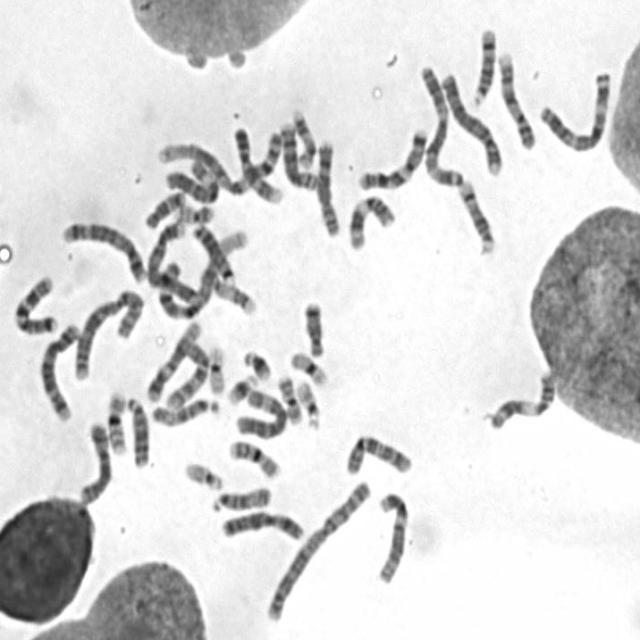A1: (151, 220, 249, 320), (154, 128, 286, 201)
A2: (262, 474, 375, 625), (68, 282, 146, 382)
A3: (535, 65, 614, 154), (416, 60, 466, 190)
B4: (436, 67, 503, 177), (144, 214, 200, 309)
B5: (56, 215, 148, 285), (35, 316, 82, 422)
C10: (159, 337, 211, 412), (341, 428, 414, 477)
C11: (482, 364, 558, 432), (344, 189, 398, 252)
C12: (141, 316, 204, 404), (374, 486, 412, 584)
C6: (232, 384, 290, 439), (162, 159, 222, 204)
C7: (353, 123, 430, 192), (10, 269, 61, 336)
C8: (277, 118, 322, 192), (311, 134, 342, 238)
C9: (229, 122, 285, 205), (493, 46, 537, 150)
D13: (189, 217, 236, 284), (123, 392, 152, 469)
D14: (455, 175, 497, 256), (467, 22, 499, 106)
D15: (147, 391, 221, 428), (206, 480, 272, 513)
E16: (226, 434, 284, 480), (103, 386, 130, 456)
E17: (206, 272, 258, 316), (288, 103, 317, 171)
E18: (141, 186, 189, 230), (300, 294, 327, 358)
F19: (286, 345, 330, 388), (204, 339, 228, 396)
F20: (274, 369, 304, 425), (172, 199, 216, 224)
G21: (223, 368, 260, 407), (238, 343, 274, 382)
G22: (292, 374, 324, 430), (180, 455, 226, 491)
X: (75, 416, 114, 506), (216, 504, 308, 542)
